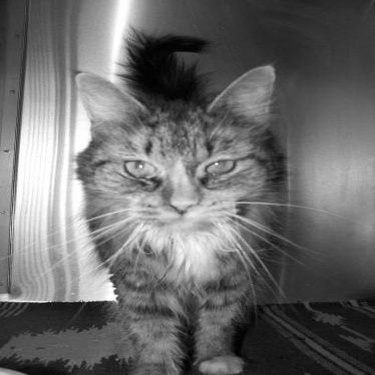cat: (65, 23, 292, 367)
